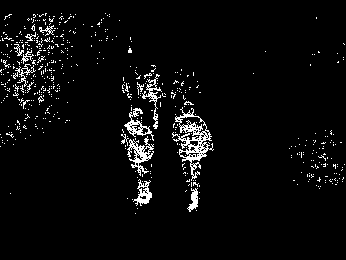person: (170, 99, 214, 214), (120, 109, 156, 206), (143, 63, 165, 127), (122, 64, 141, 101), (171, 65, 184, 103)
